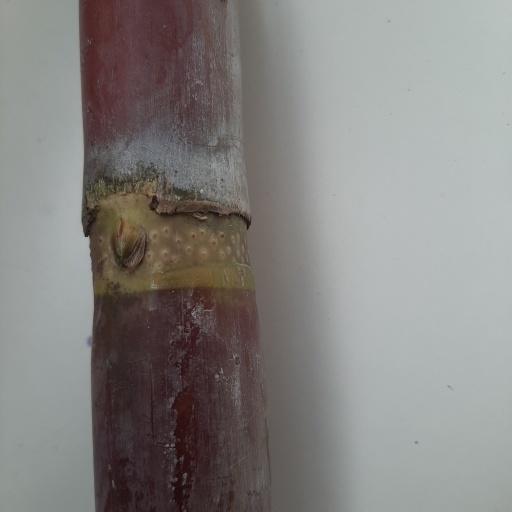Bud: (107, 218, 146, 273)
